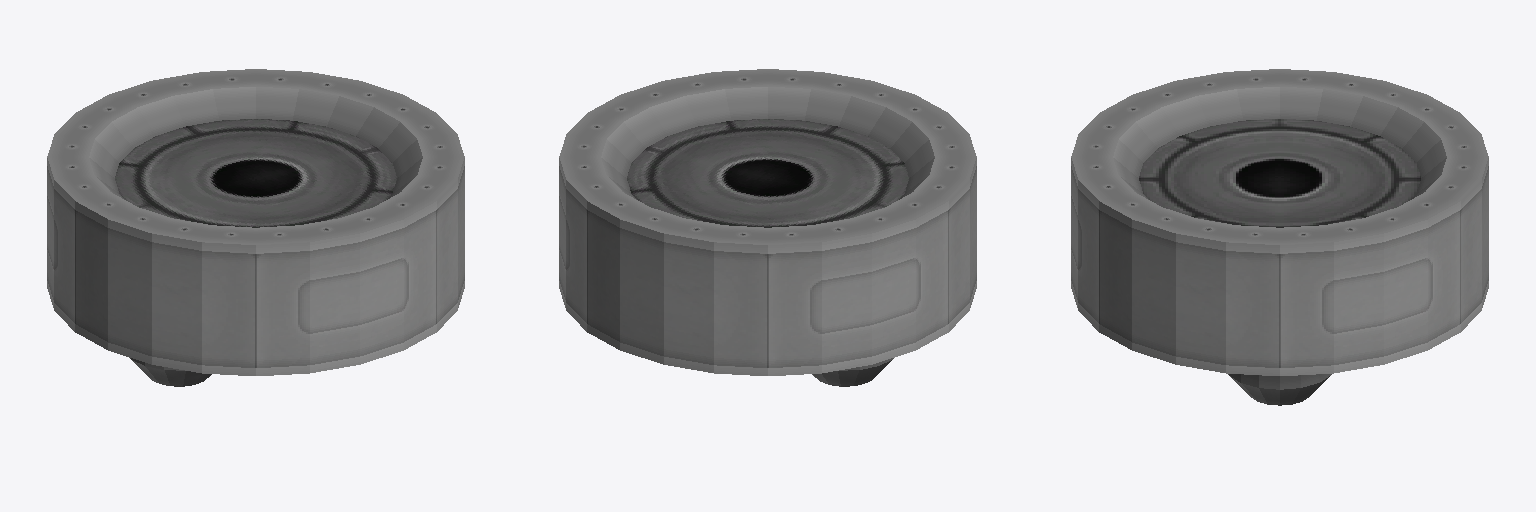
3 views of the same model, side by side, from view 1: azimuth 30°, elevation 25°; view 2: azimuth 150°, elevation 25°; view 3: azimuth 270°, elevation 25° (orthographic).
Visible parts, largest first — view 1: Knight_Motor_B; view 2: Knight_Motor_B; view 3: Knight_Motor_B.
Boxes of the visible parts, <box> form: Knight_Motor_B: <box>47,69,464,386</box>; Knight_Motor_B: <box>559,69,976,386</box>; Knight_Motor_B: <box>1071,69,1488,405</box>.
Size of the model in its own units: 0.9375 by 0.49 by 0.9375.
Materials: 1 (1 with a texture image).